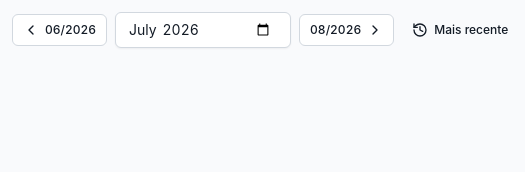
Test: CompetenceNav › navegar para a anterior e a próxima atualiza a URL, preservando os filtros
Click the button named "Competência anterior: 06/2026" at (60, 30), box [12, 14, 107, 46]
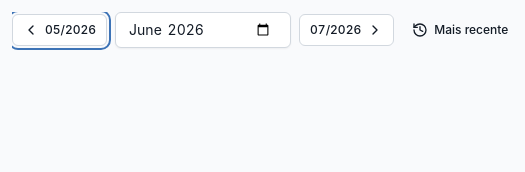
Click the button named "Próxima competência: 07/2026" at (347, 30), box [299, 14, 394, 46]
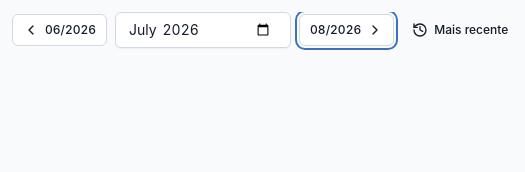
Click the button named "Próxima competência: 08/2026" at (347, 30), box [299, 14, 394, 46]
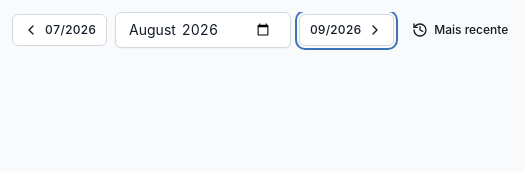
Expected: the field named "Selecionar competência" holds "2026-08", [115, 12, 291, 48]
